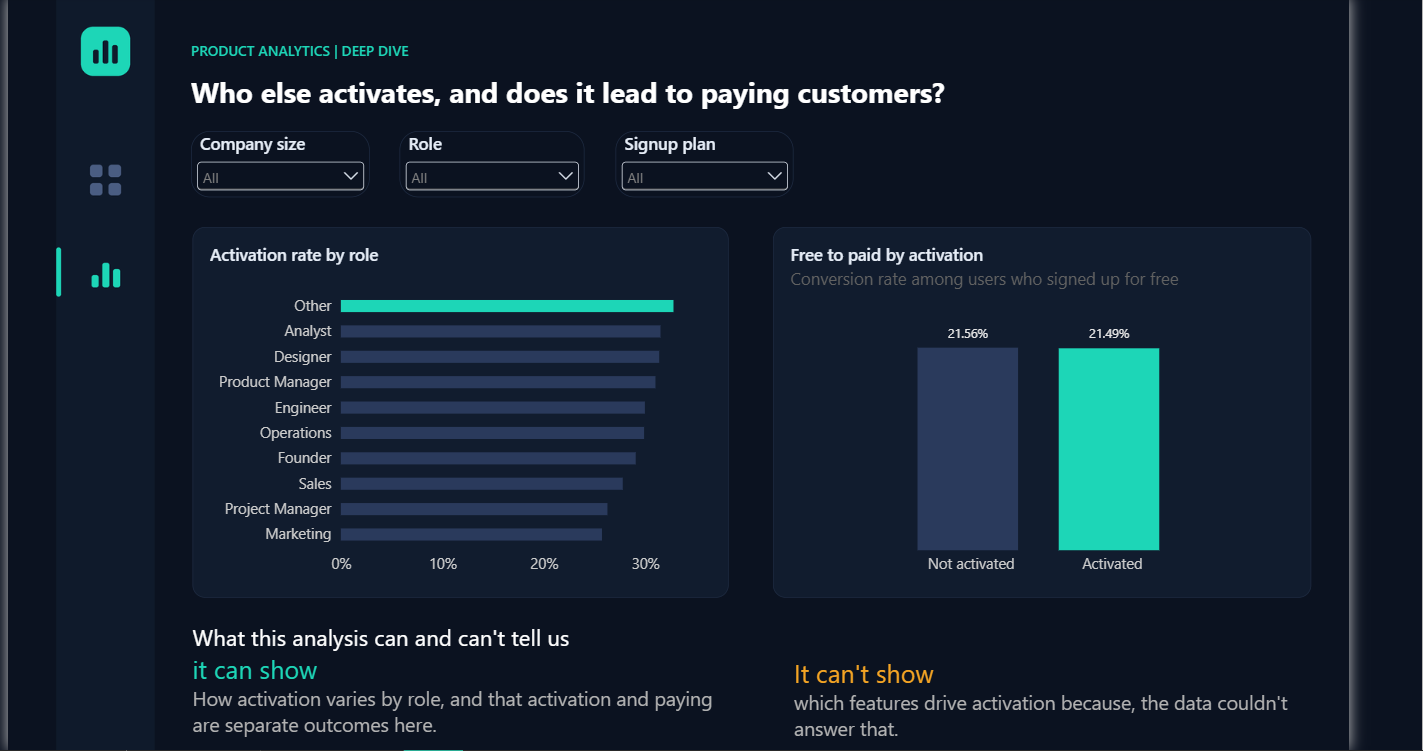

The dashboard page shown, as its layout file describes it:
{"tool":"powerbi","page":{"name":"Deep dive","canvas":[1280,720],"ordinal":1},"visuals":[{"type":"image","box":[9.8,0,165.9,1054],"z":0},{"type":"actionButton","box":[51.2,134.2,80.5,85.4],"z":1000},{"type":"textbox","box":[175,43.3,270,18.3],"z":2000},{"type":"textbox","box":[175,73.3,726.7,43.3],"z":3000},{"type":"slicer","fields":{"Values":["users.company_size"]},"box":[175,128.3,170.8,63.4],"z":4000},{"type":"slicer","fields":{"Values":["users.role"]},"box":[374.6,128.4,176.7,63.3],"z":5000},{"type":"slicer","fields":{"Values":["users.plan_at_signup"]},"box":[580,128.4,170,63.3],"z":6000},{"type":"clusteredBarChart","title":"Activation rate by role","fields":{"Category":["users.role"],"Y":["vw_user_activation.Activation Rate"]},"box":[176,220,512,354],"z":7000},{"type":"textbox","box":[750,630,494,84],"z":8000},{"type":"clusteredColumnChart","title":"Free to paid by activation","fields":{"Category":["vw_user_activation.Activation Status"],"Y":["vw_user_activation.Conversion Rate"]},"box":[730,220,514,354],"z":9000},{"type":"textbox","box":[176,598,554,116],"z":10000}]}

Visuals, with their boxes on the page's 1280x720 design canvas (x1, y1, x2, y2). These are canvas units, not pixel positions in the 1423x751 screenshot, which may show the page scaled, cropped or inside an application window:
image: rect(10, 0, 176, 1054)
actionButton: rect(51, 134, 132, 220)
textbox: rect(175, 43, 445, 62)
textbox: rect(175, 73, 902, 117)
slicer - users.company_size: rect(175, 128, 346, 192)
slicer - users.role: rect(375, 128, 551, 192)
slicer - users.plan_at_signup: rect(580, 128, 750, 192)
"Activation rate by role" clusteredBarChart: rect(176, 220, 688, 574)
textbox: rect(750, 630, 1244, 714)
"Free to paid by activation" clusteredColumnChart: rect(730, 220, 1244, 574)
textbox: rect(176, 598, 730, 714)
